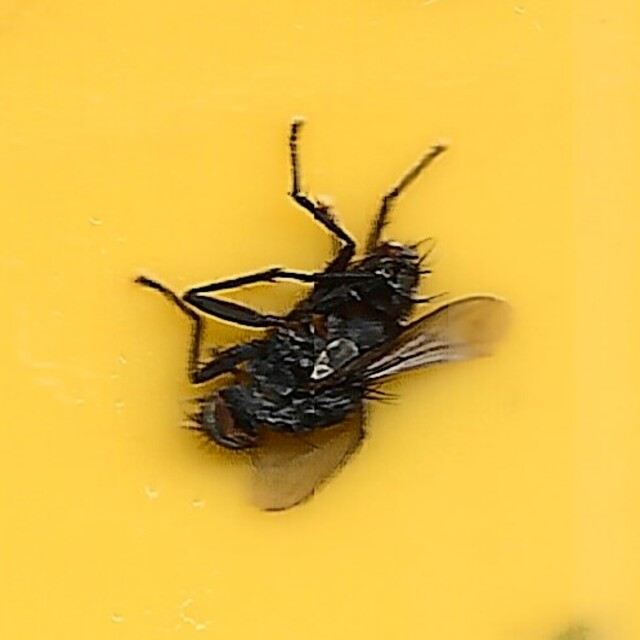Brachycera: (129, 121, 511, 519)
